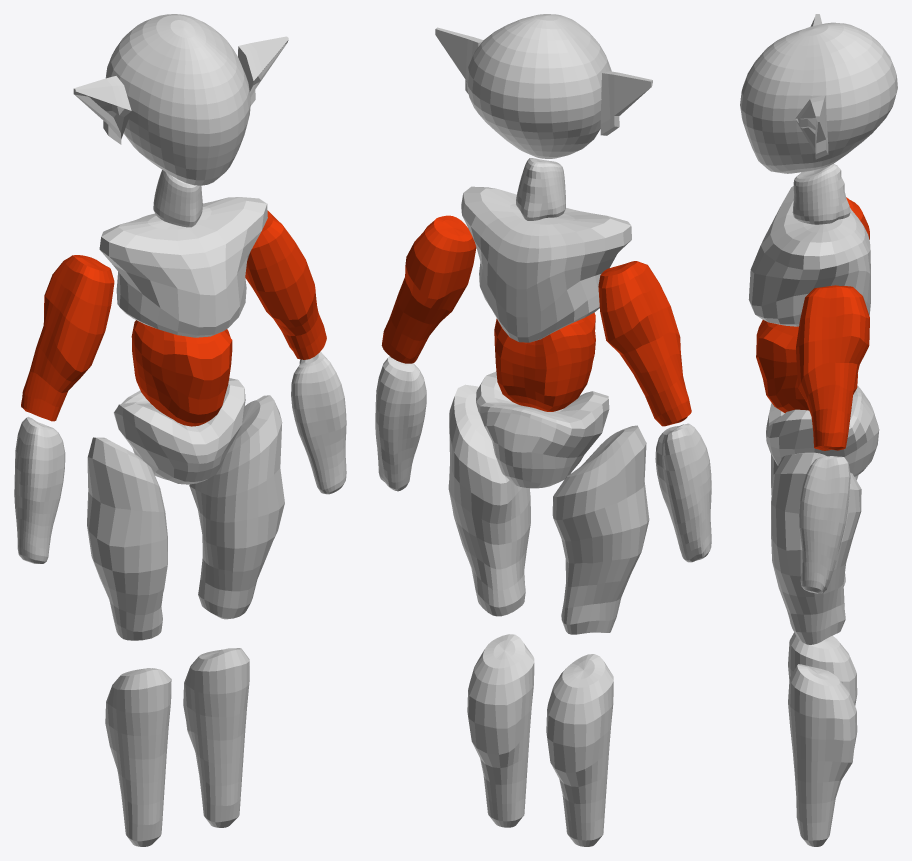
File: body.glb
3 views of the same model, side by side, from view 1: azimuth 30°, elevation 25°; view 2: azimuth 150°, elevation 25°; view 3: azimuth 270°, elevation 25° (orthographic). The views are drawn at different scales.
Visible parts, largest first — view 1: thighs-1.001, legs-lower-1.001, head-1.001, torso-1.001, arms-upper-1.001, fore-arms-1.001, belly-1.001, hips-1.001, ears-1.001, neck-1.001; view 2: thighs-1.001, legs-lower-1.001, arms-upper-1.001, torso-1.001, head-1.001, fore-arms-1.001, hips-1.001, belly-1.001, ears-1.001, neck-1.001; view 3: head-1.001, legs-lower-1.001, torso-1.001, arms-upper-1.001, thighs-1.001, fore-arms-1.001, hips-1.001, belly-1.001, neck-1.001, ears-1.001.
Boxes of the visible parts, box(x1,y1,x2,y2) form: thighs-1.001: box(87, 395, 284, 640); legs-lower-1.001: box(105, 648, 249, 846); head-1.001: box(105, 14, 250, 185); torso-1.001: box(99, 197, 267, 337); arms-upper-1.001: box(21, 210, 326, 421); fore-arms-1.001: box(14, 351, 346, 563); belly-1.001: box(131, 320, 232, 426); hips-1.001: box(114, 378, 245, 484); ears-1.001: box(73, 36, 288, 144); neck-1.001: box(153, 170, 202, 227); thighs-1.001: box(448, 384, 649, 634); legs-lower-1.001: box(467, 634, 613, 846); arms-upper-1.001: box(381, 215, 691, 426); torso-1.001: box(461, 186, 631, 342); head-1.001: box(466, 14, 611, 158); fore-arms-1.001: box(375, 356, 711, 562); hips-1.001: box(476, 371, 609, 488); belly-1.001: box(494, 312, 595, 411); ears-1.001: box(435, 27, 652, 135); neck-1.001: box(516, 158, 565, 220); head-1.001: box(740, 22, 897, 173); legs-lower-1.001: box(788, 632, 857, 846); torso-1.001: box(748, 186, 870, 326); arms-upper-1.001: box(796, 197, 869, 450); thighs-1.001: box(771, 452, 861, 644); fore-arms-1.001: box(799, 456, 850, 593); hips-1.001: box(766, 385, 879, 476); belly-1.001: box(756, 320, 857, 412); neck-1.001: box(792, 164, 850, 224); ears-1.001: box(795, 14, 828, 159).
Size of the model in its own units: 2 by 4.77 by 0.8554.
